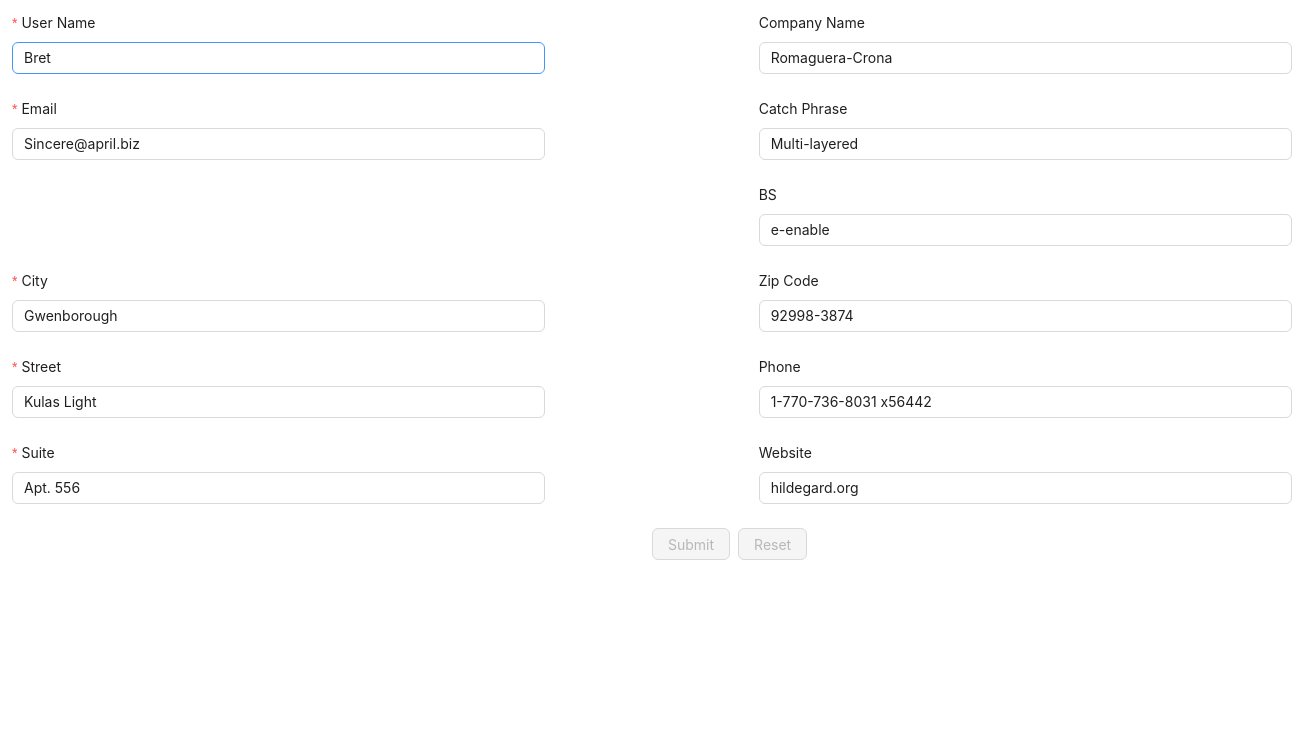
UserForm › disables Submit and Reset until a field is touched, then enables them
Expected: the button "Submit" is disabled, [652, 528, 730, 560]
Expected: the button "Reset" is disabled, [738, 528, 807, 560]
Type "X" into the field labelled "User Name" at coordinates (279, 58), box [12, 42, 545, 74]
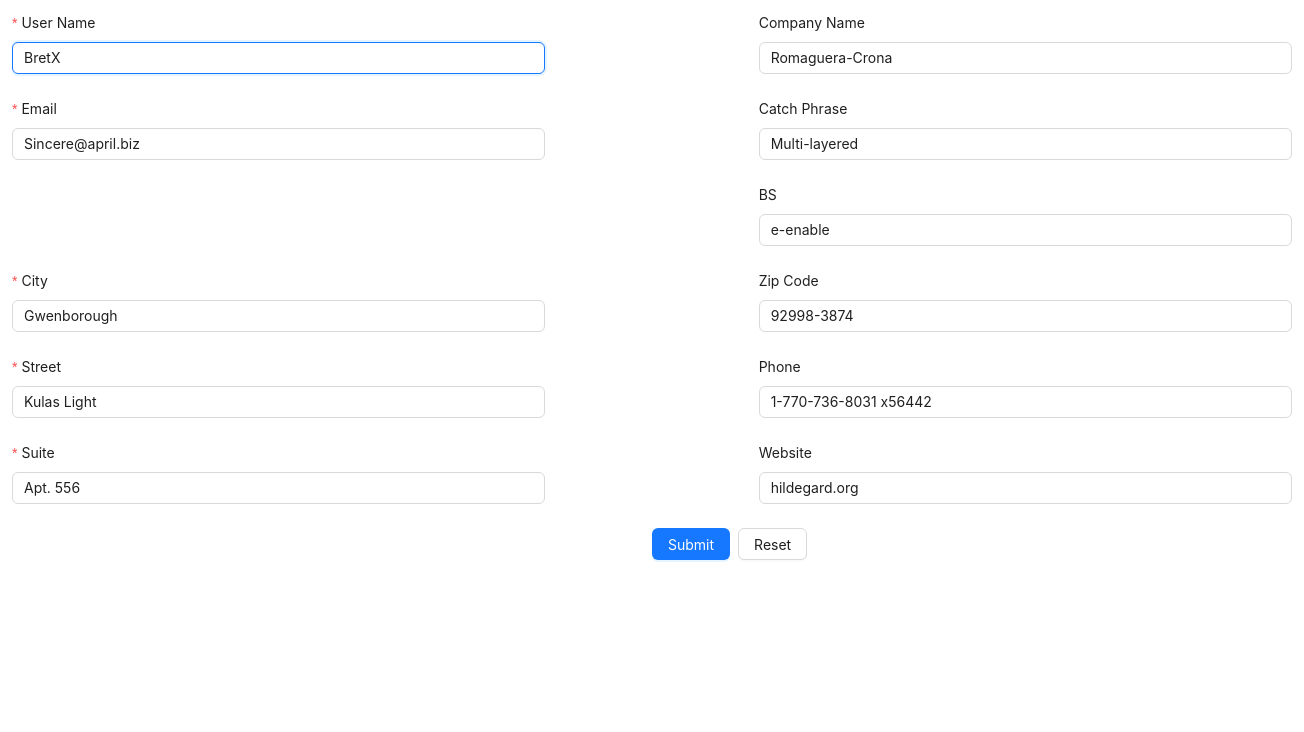
Result: the button "Submit" is enabled at [652, 528, 730, 560]
Result: the button "Reset" is enabled at [738, 528, 807, 560]
